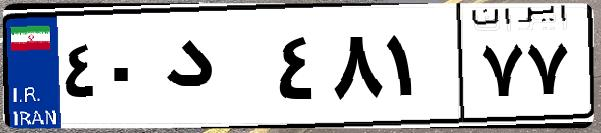0: (110, 28, 158, 98)
1: (385, 28, 445, 110)
4: (270, 28, 330, 110), (57, 26, 110, 100)
7: (475, 38, 525, 113), (525, 38, 570, 115)
8: (330, 28, 385, 110)
د: (158, 20, 270, 120)
